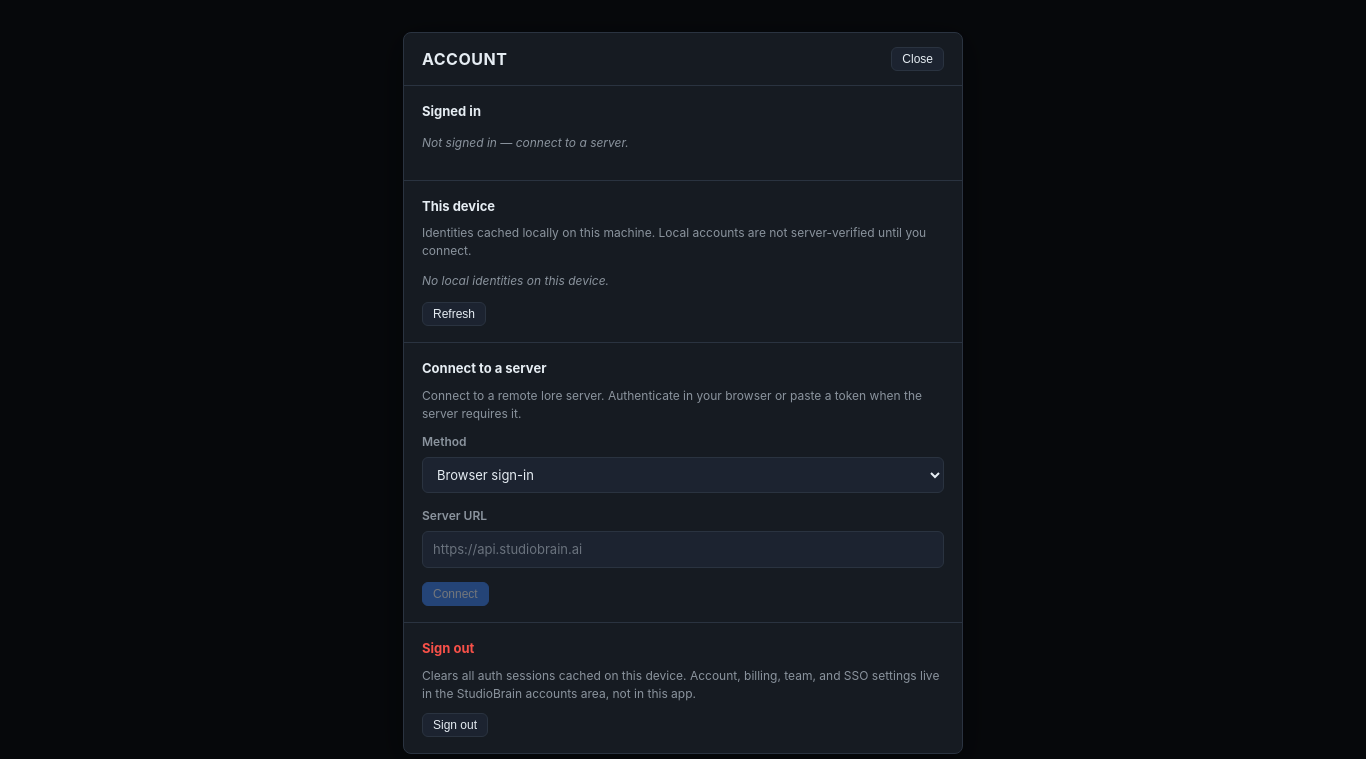
Scenario: auth-disabled connection from the account panel (#404) › shows a successful no-auth connection for v0.8.5 legacy error
Check: the text "Not signed in — connect to a server." is shown, box [422,134,629,150]
In the field labelled "Server URL": (683, 549) [422,530,944,568], type "lore://192.0.2.10/repo"
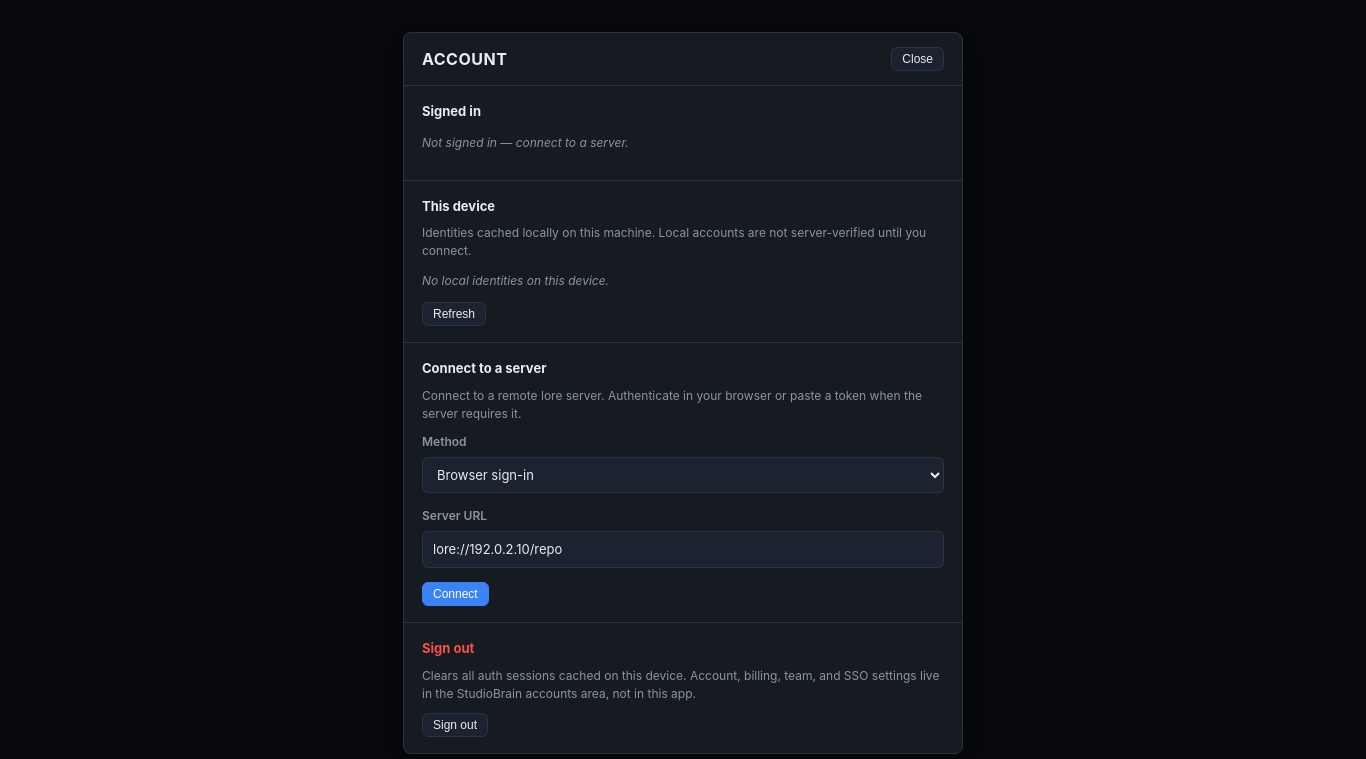
Click the button "Connect": (455, 594) [422,582,489,606]
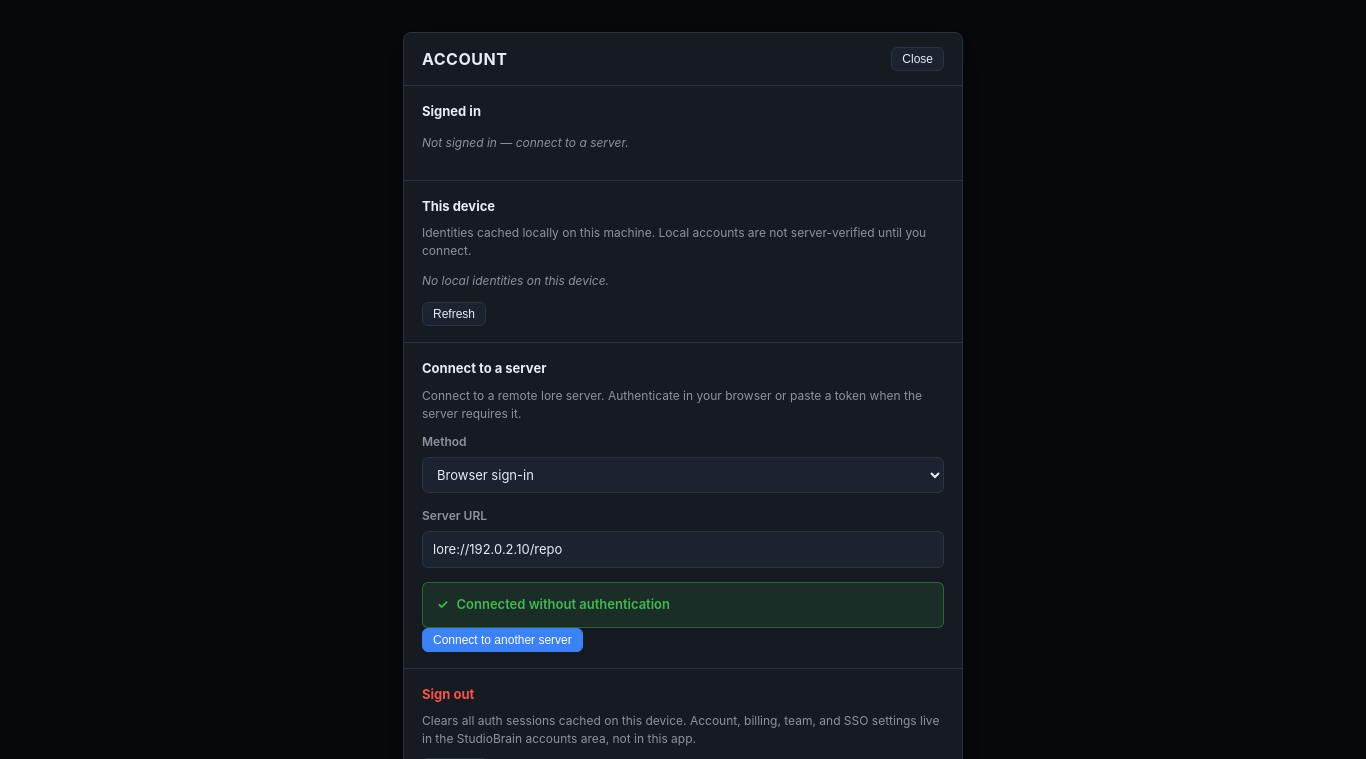
Check: the text "Connected without authentication" is shown, box [456,595,670,614]
